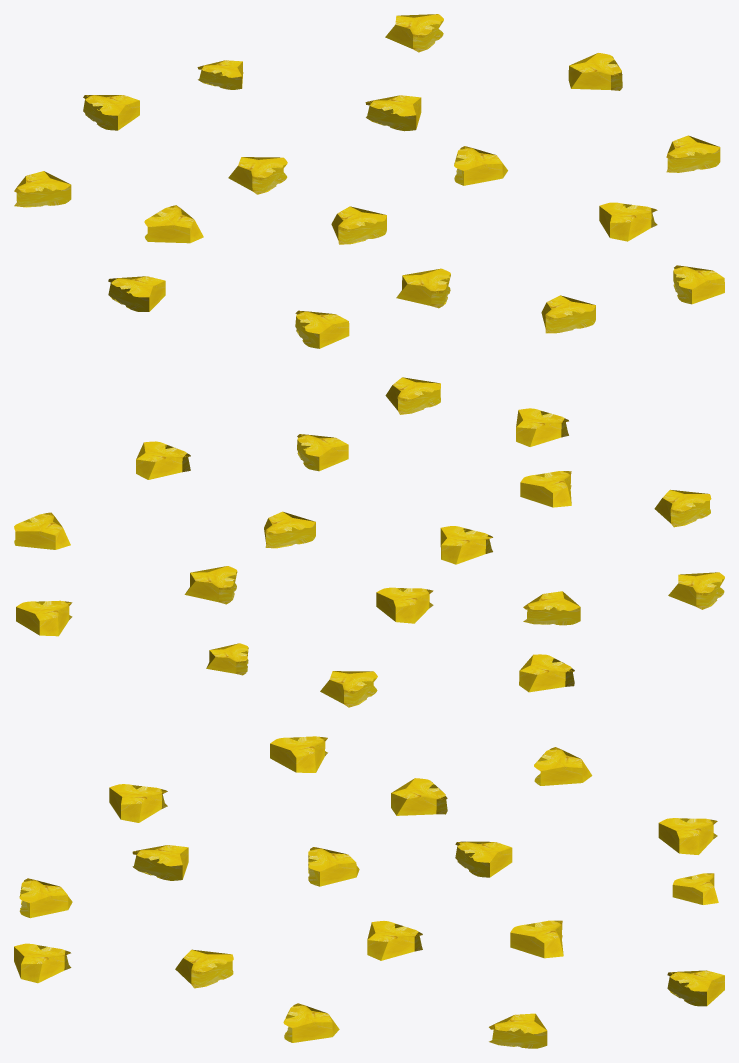
Rendered from pinapple_on_pizza.glb.
3 views of the same model, one above another, from view 1: azimuth 30°, elevation 25°; view 2: azimuth 150°, elevation 25°; view 3: azimuth 270°, elevation 25° (orthographic). The views are drawn at different scales.
Visible parts, largest first — view 1: Cube.007, Cube.009, Cube.015, Cube.003, Cube.001, Cube.011, Cube.002, Cube.010, Cube, Cube.005, Cube.012, Cube.014 (+5 smaller); view 2: Cube.003, Cube.010, Cube.014, Cube.008, Cube, Cube.002, Cube.013, Cube.009, Cube.015, Cube.012, Cube.016, Cube.011 (+5 smaller); view 3: Cube.011, Cube.015, Cube.001, Cube.012, Cube.016, Cube.006, Cube.005, Cube.010, Cube.014, Cube.009, Cube.007, Cube.013 (+5 smaller).
Part boxes in pixels (bbox=[...]): Cube.007: bbox=[599, 202, 657, 241]; Cube.009: bbox=[568, 53, 622, 90]; Cube.015: bbox=[144, 205, 203, 243]; Cube.003: bbox=[14, 171, 71, 207]; Cube.001: bbox=[108, 276, 165, 311]; Cube.011: bbox=[83, 95, 139, 130]; Cube.002: bbox=[331, 206, 386, 244]; Cube.010: bbox=[228, 157, 287, 194]; Cube: bbox=[541, 295, 595, 333]; Cube.005: bbox=[365, 95, 421, 131]; Cube.012: bbox=[295, 310, 349, 348]; Cube.014: bbox=[385, 14, 443, 52]; Cube.003: bbox=[519, 654, 574, 692]; Cube.010: bbox=[376, 587, 433, 623]; Cube.014: bbox=[16, 600, 72, 636]; Cube.008: bbox=[136, 441, 190, 479]; Cube: bbox=[516, 408, 568, 446]; Cube.002: bbox=[440, 526, 492, 564]; Cube.013: bbox=[520, 471, 571, 507]; Cube.009: bbox=[14, 512, 70, 549]; Cube.015: bbox=[523, 591, 580, 625]; Cube.012: bbox=[654, 489, 711, 527]; Cube.016: bbox=[385, 377, 440, 414]; Cube.011: bbox=[320, 671, 377, 707]; Cube.011: bbox=[658, 818, 717, 854]; Cube.015: bbox=[391, 778, 447, 815]; Cube.001: bbox=[270, 736, 327, 772]; Cube.012: bbox=[109, 784, 167, 822]; Cube.016: bbox=[14, 943, 71, 983]; Cube.006: bbox=[367, 921, 422, 960]; Cube.005: bbox=[510, 920, 563, 958]; Cube.010: bbox=[455, 841, 512, 877]; Cube.014: bbox=[667, 970, 724, 1006]; Cube.009: bbox=[489, 1013, 547, 1048]; Cube.007: bbox=[175, 949, 233, 988]; Cube.013: bbox=[132, 845, 188, 880].
Size of the model in its own units: 1.98 by 0.055 by 2.
Materials: 17 (17 with a texture image).
